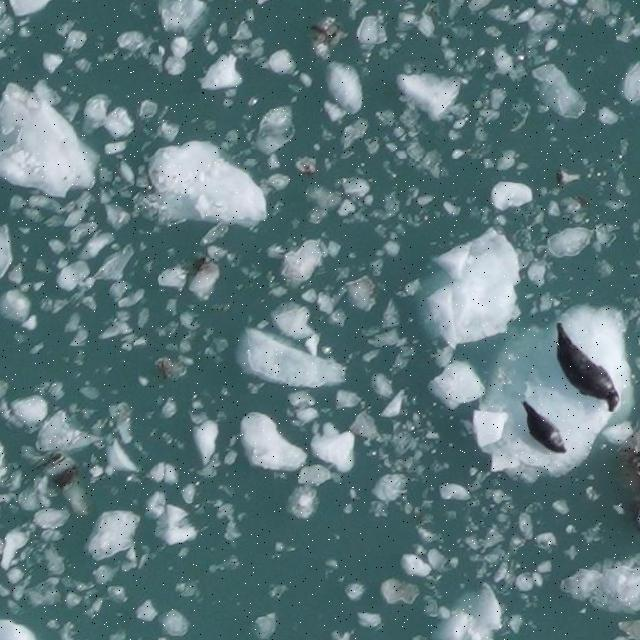seal: (559, 324, 620, 411), (522, 400, 567, 454)
